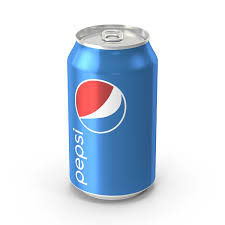pepsi: (67, 26, 158, 200)
